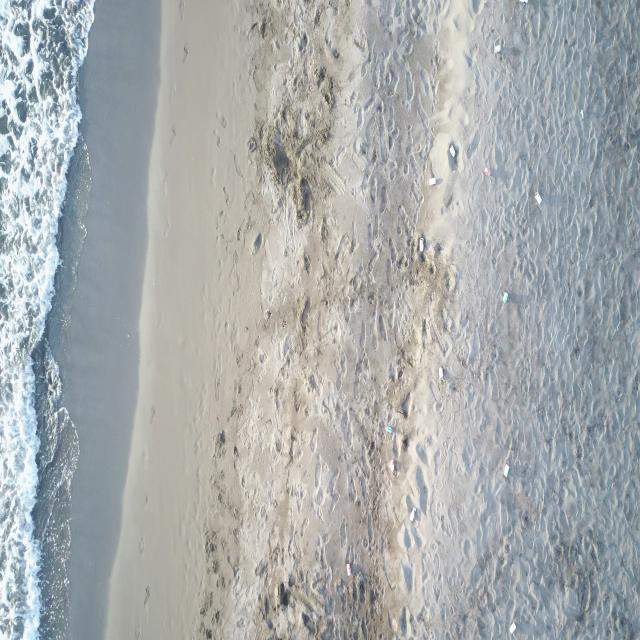tin-and-aluminum-cans: (509, 620, 517, 636), (437, 364, 444, 382), (409, 506, 416, 523), (503, 462, 510, 478), (535, 191, 542, 205), (449, 144, 456, 158), (346, 562, 352, 578), (419, 237, 425, 253), (385, 425, 393, 436), (494, 44, 501, 56), (390, 458, 395, 473), (428, 177, 436, 186), (484, 167, 491, 177), (518, 0, 529, 6), (503, 292, 508, 303)
